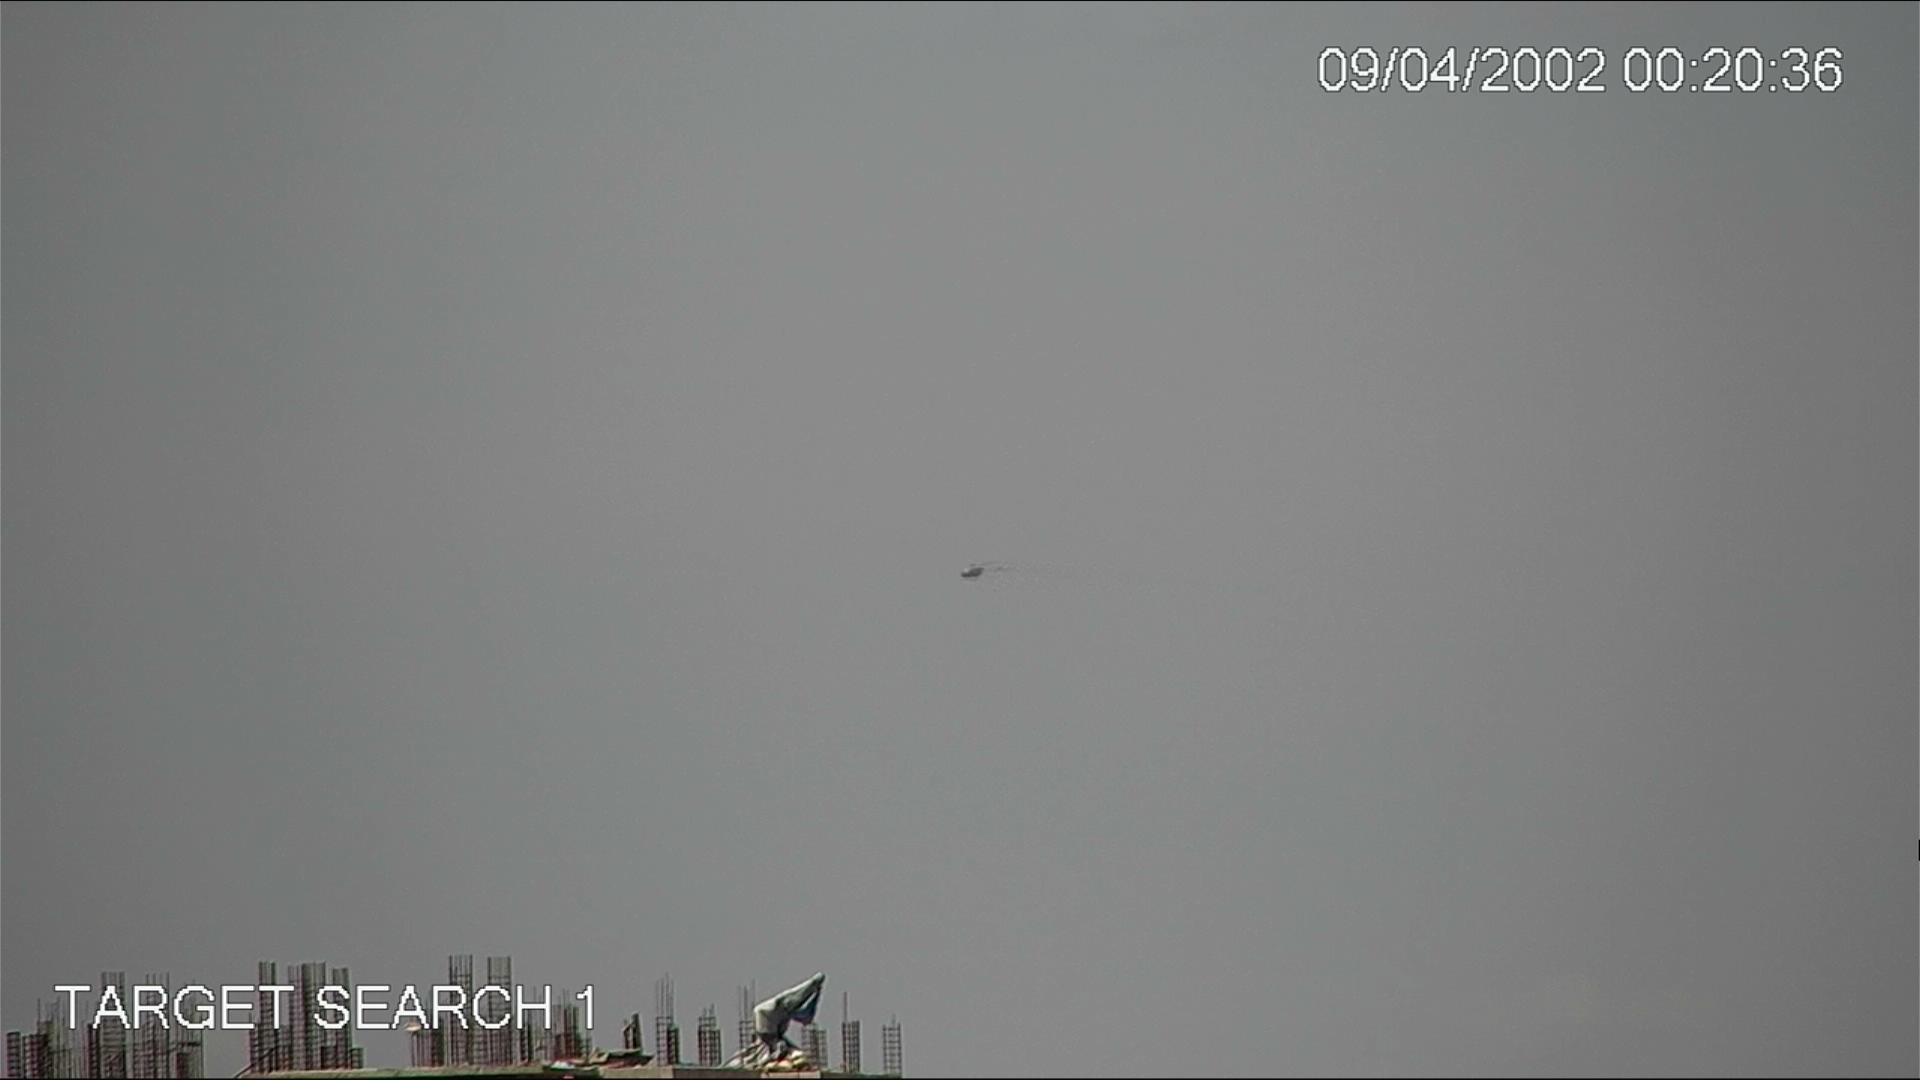SU_30: (955, 560, 986, 582)
